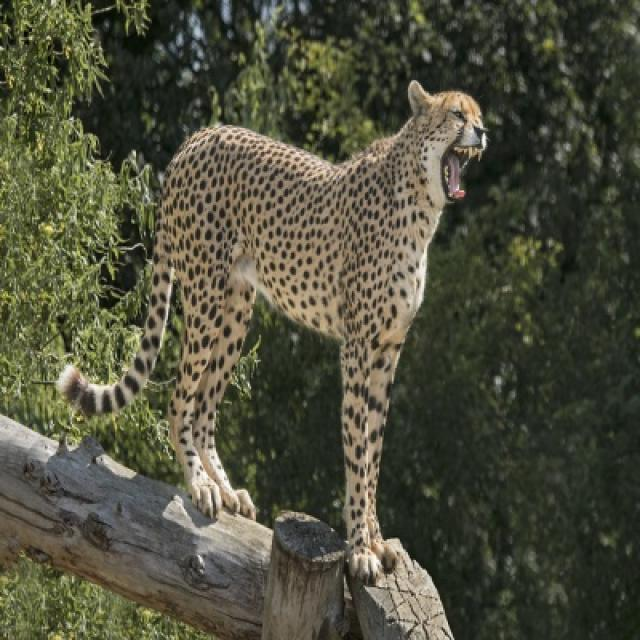Cheetah: (50, 82, 497, 588)
